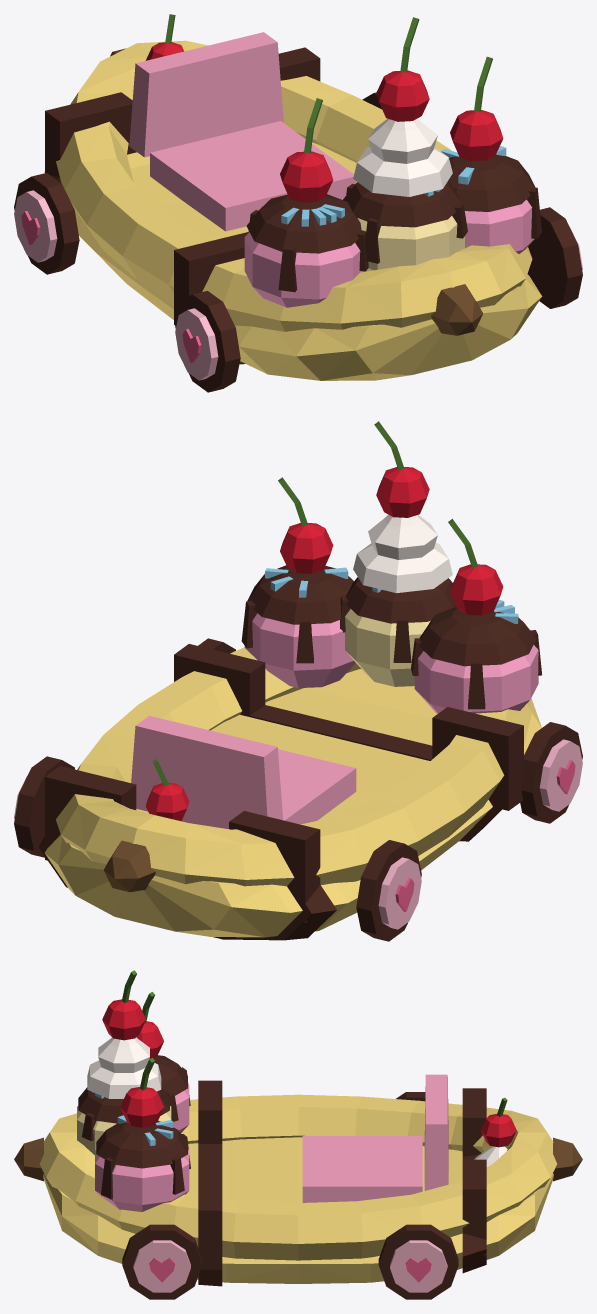
File: CV3_BananaRaft.fbx
The picture shows the model from 3 angles, top to bottom: view 1: azimuth 30°, elevation 25°; view 2: azimuth 150°, elevation 25°; view 3: azimuth 270°, elevation 25°; orthographic projection. The views are drawn at different scales.
Parts seen in each view (by area): view 1: CV3_BananaRaft_Hull, CV3_BananaRaft_Choc, CV3_BananaRaft_Seat, CV3_BananaRaft_ScoopPink, CV3_BananaRaft_Cherry, CV3_BananaRaft_Cream, CV3_BananaRaft_Floaters, CV3_BananaRaft_ScoopVanilla, CV3_BananaRaft_Tips, CV3_BananaRaft_Stem, CV3_BananaRaft_Sprinkles, CV3_BananaRaft_Hearts; view 2: CV3_BananaRaft_Hull, CV3_BananaRaft_Choc, CV3_BananaRaft_Seat, CV3_BananaRaft_ScoopPink, CV3_BananaRaft_Cherry, CV3_BananaRaft_Cream, CV3_BananaRaft_Floaters, CV3_BananaRaft_ScoopVanilla, CV3_BananaRaft_Tips, CV3_BananaRaft_Stem, CV3_BananaRaft_Sprinkles, CV3_BananaRaft_Hearts; view 3: CV3_BananaRaft_Hull, CV3_BananaRaft_Choc, CV3_BananaRaft_Seat, CV3_BananaRaft_Cherry, CV3_BananaRaft_Floaters, CV3_BananaRaft_ScoopPink, CV3_BananaRaft_Cream, CV3_BananaRaft_Tips, CV3_BananaRaft_Hearts, CV3_BananaRaft_Stem, CV3_BananaRaft_ScoopVanilla, CV3_BananaRaft_Sprinkles.
Boxes of the visible parts, x1,y1,x2,y2 form: CV3_BananaRaft_Hull: (44, 40, 542, 380); CV3_BananaRaft_Choc: (14, 47, 582, 392); CV3_BananaRaft_Seat: (129, 32, 356, 231); CV3_BananaRaft_ScoopPink: (244, 199, 534, 307); CV3_BananaRaft_Cherry: (145, 42, 503, 202); CV3_BananaRaft_Cream: (353, 118, 452, 196); CV3_BananaRaft_Floaters: (14, 190, 582, 380); CV3_BananaRaft_ScoopVanilla: (357, 216, 464, 271); CV3_BananaRaft_Tips: (110, 48, 483, 335); CV3_BananaRaft_Stem: (165, 14, 492, 153); CV3_BananaRaft_Sprinkles: (281, 146, 506, 226); CV3_BananaRaft_Hearts: (21, 211, 201, 362); CV3_BananaRaft_Hull: (44, 647, 541, 937); CV3_BananaRaft_Choc: (14, 565, 582, 941); CV3_BananaRaft_Seat: (131, 715, 356, 829); CV3_BananaRaft_ScoopPink: (244, 613, 538, 713); CV3_BananaRaft_Cherry: (146, 467, 503, 821); CV3_BananaRaft_Cream: (353, 514, 452, 593); CV3_BananaRaft_Floaters: (14, 739, 582, 929); CV3_BananaRaft_ScoopVanilla: (345, 609, 430, 686); CV3_BananaRaft_Tips: (103, 840, 155, 892); CV3_BananaRaft_Stem: (152, 421, 478, 786); CV3_BananaRaft_Sprinkles: (265, 567, 518, 623); CV3_BananaRaft_Hearts: (395, 760, 575, 911); CV3_BananaRaft_Hull: (40, 1094, 556, 1283); CV3_BananaRaft_Choc: (78, 1055, 486, 1299); CV3_BananaRaft_Seat: (302, 1074, 448, 1202); CV3_BananaRaft_Cherry: (102, 999, 516, 1147); CV3_BananaRaft_Floaters: (133, 1240, 447, 1292); CV3_BananaRaft_ScoopPink: (95, 1084, 189, 1211); CV3_BananaRaft_Cream: (87, 1037, 507, 1166); CV3_BananaRaft_Tips: (14, 1137, 582, 1181); CV3_BananaRaft_Hearts: (149, 1257, 431, 1282); CV3_BananaRaft_Stem: (122, 970, 507, 1116); CV3_BananaRaft_ScoopVanilla: (77, 1106, 171, 1154); CV3_BananaRaft_Sprinkles: (92, 1092, 173, 1145).
Bounding box in the file's own units: 8.64 × 7.9 × 14.2.
